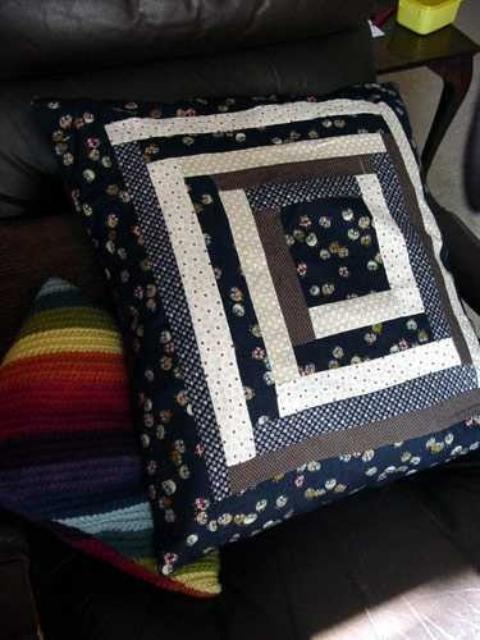pillow: (30, 79, 478, 573)
